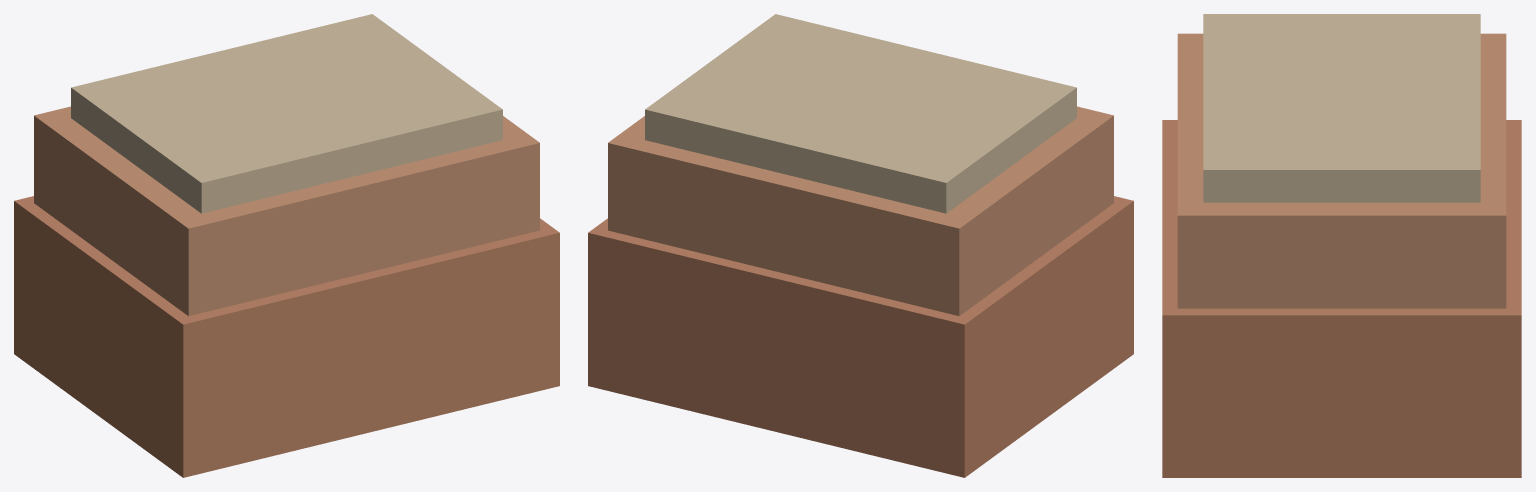
File: mesa.glb
The picture shows the model from 3 angles, left to right: view 1: azimuth 30°, elevation 25°; view 2: azimuth 150°, elevation 25°; view 3: azimuth 270°, elevation 25°; orthographic projection. The views are drawn at different scales.
Visible parts, largest first — view 1: mesa; view 2: mesa; view 3: mesa.
Boxes of the visible parts, <box> form: mesa: <box>14,14,559,477</box>; mesa: <box>588,14,1133,477</box>; mesa: <box>1162,14,1521,477</box>.
Bounding box in the file's own units: 11.25 × 7.75 × 8.75.
